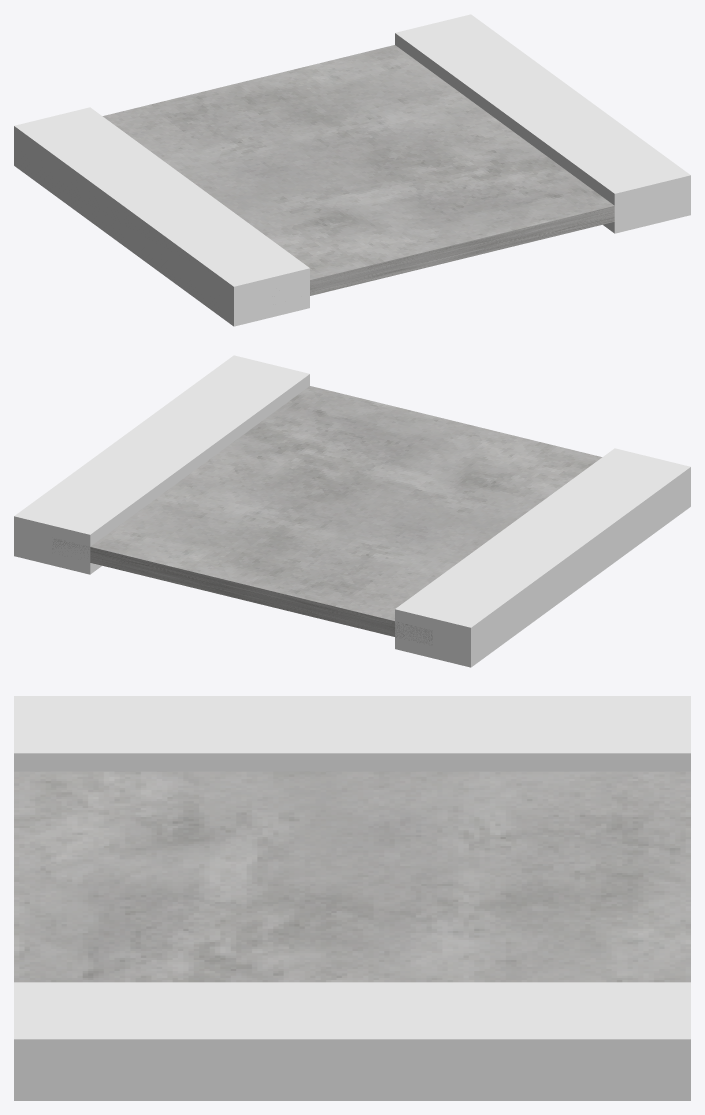
The model's file is GroundTileMeshv2.fbx.
The picture shows the model from 3 angles, top to bottom: view 1: azimuth 30°, elevation 25°; view 2: azimuth 150°, elevation 25°; view 3: azimuth 270°, elevation 25°; orthographic projection. The views are drawn at different scales.
Visible parts, largest first — view 1: sidewalk_1; view 2: sidewalk_1; view 3: sidewalk_1.
Part boxes in pixels (<box>): sidewalk_1: <box>14,14,690,326</box>; sidewalk_1: <box>14,355,690,667</box>; sidewalk_1: <box>14,696,690,1100</box>.
Size of the model in its own units: 600 by 50 by 500.
